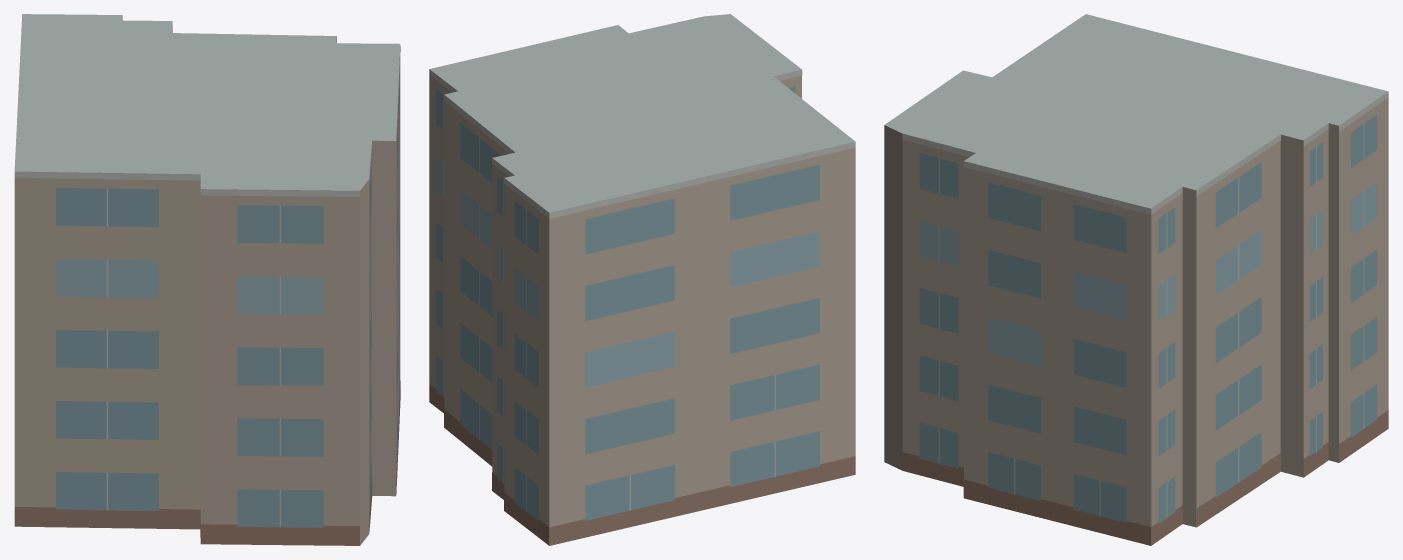
The model's file is survey-upis-32662118.glb.
3 renders of one model, left to right at view 1: azimuth 30°, elevation 25°; view 2: azimuth 150°, elevation 25°; view 3: azimuth 270°, elevation 25°, orthographic. The views are drawn at different scales.
Visible parts, largest first — view 1: survey-upis-32662118.tmp; view 2: survey-upis-32662118.tmp; view 3: survey-upis-32662118.tmp.
Boxes of the visible parts, x1,y1,x2,y2 form: survey-upis-32662118.tmp: [14, 14, 400, 545]; survey-upis-32662118.tmp: [429, 14, 855, 545]; survey-upis-32662118.tmp: [884, 14, 1388, 545].
Bounding box in the file's own units: 16.85 × 13.6 × 18.45.
